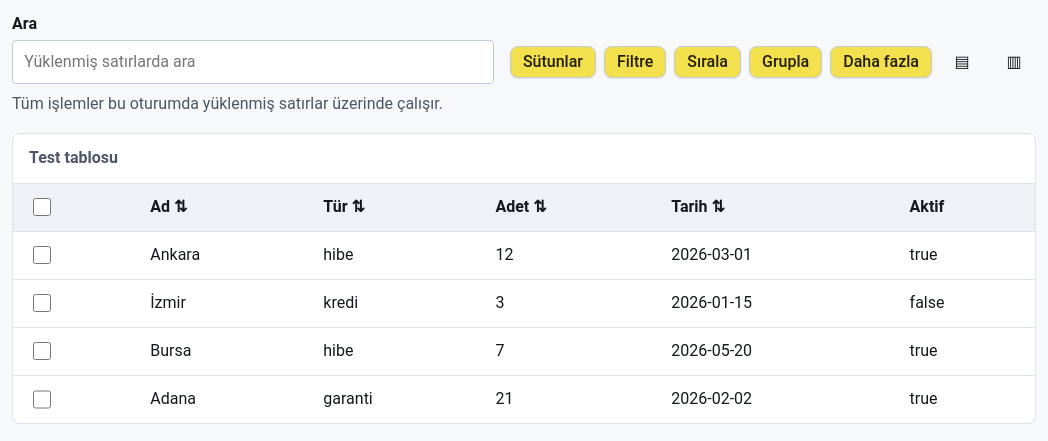
Test: view modes › switches to cards when the consumer declares that mode
Click the button named "Kart görünümü" at (1014, 62), box top-left (992, 40), bottom-right (1036, 84)
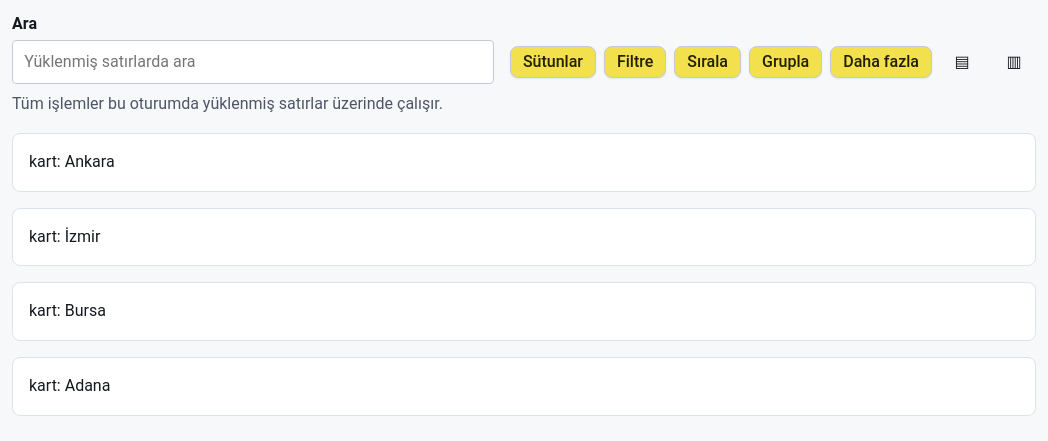
Check: the text "kart: Ankara" is shown, box top-left (29, 152), bottom-right (115, 171)
Check: the table is gone
